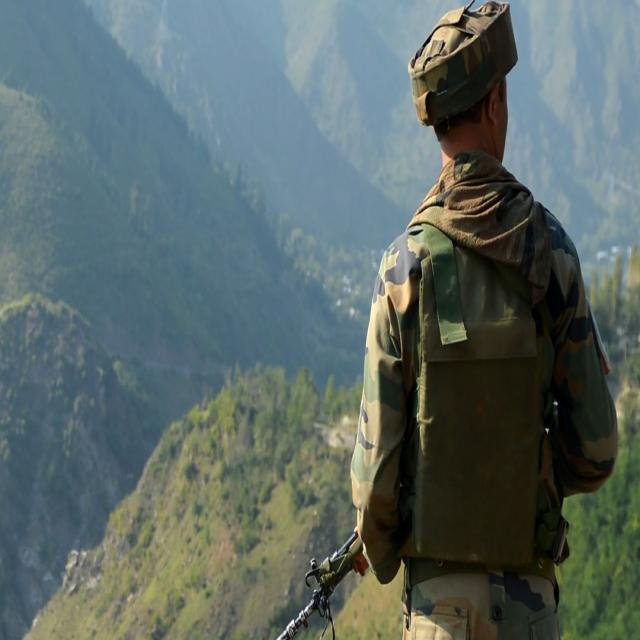Forest: (0, 0, 640, 640)
Militant: (286, 0, 640, 640)
